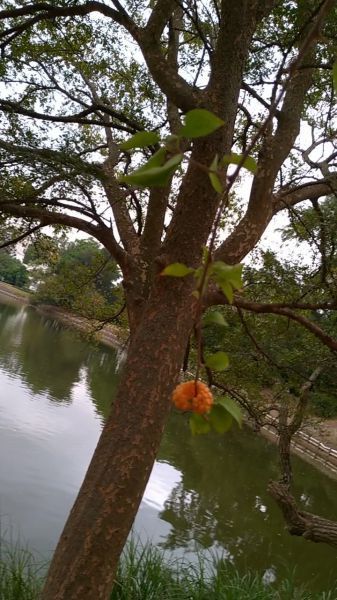eggs: (169, 373, 220, 422)
